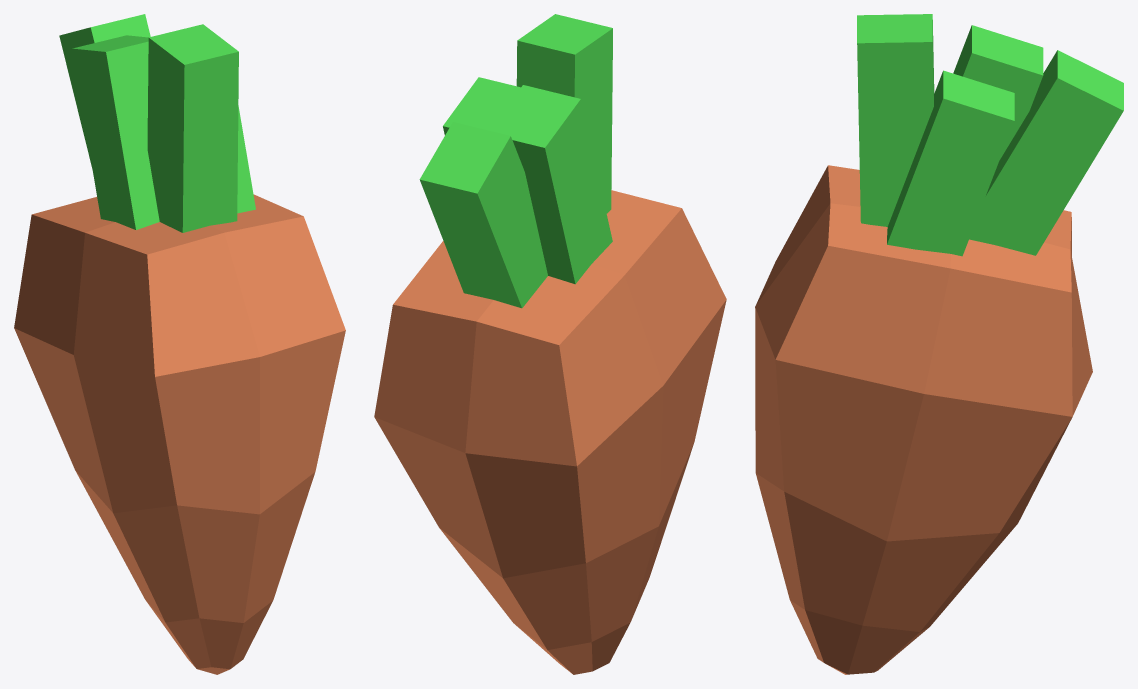
File: carrotcollecible.fbx
3 renders of one model, left to right at view 1: azimuth 30°, elevation 25°; view 2: azimuth 150°, elevation 25°; view 3: azimuth 270°, elevation 25°, orthographic. The views are drawn at different scales.
Parts seen in each view (by area): view 1: Cube.004; view 2: Cube.004; view 3: Cube.004.
Boxes of the visible parts, box(x1,y1,x2,y2) form: Cube.004: box(14, 14, 345, 674); Cube.004: box(374, 14, 726, 674); Cube.004: box(755, 14, 1123, 674).
Bounding box in the file's own units: 52.52 × 145 × 74.85.
